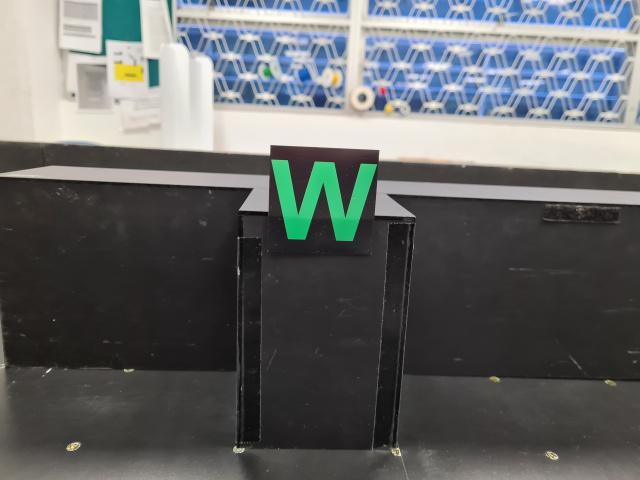w: (268, 145, 380, 258)
